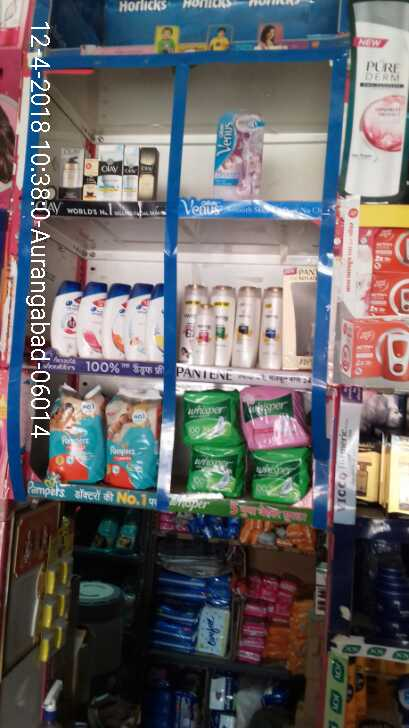venus: (216, 112, 263, 193)
